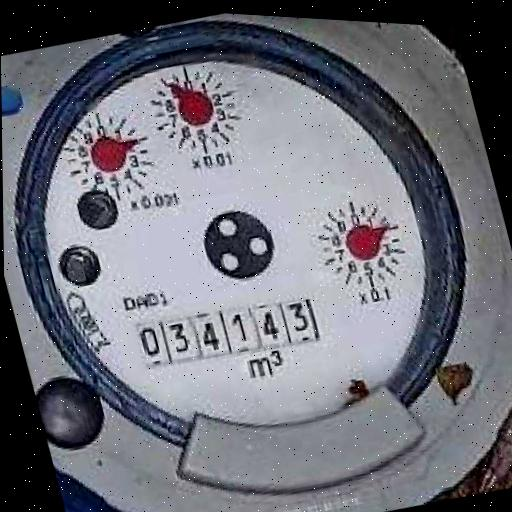0: (133, 323, 170, 369)
1: (223, 308, 259, 353)
3: (162, 316, 200, 362), (281, 297, 315, 344)
4: (253, 302, 289, 349), (194, 312, 228, 357)
border_water_meter_number: (131, 280, 323, 387)
